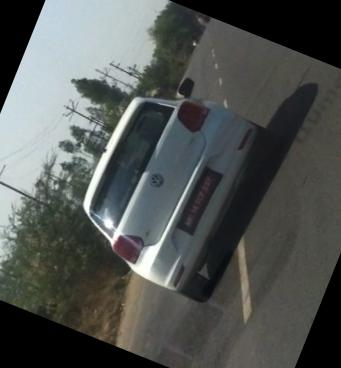plate: (160, 154, 236, 256)
